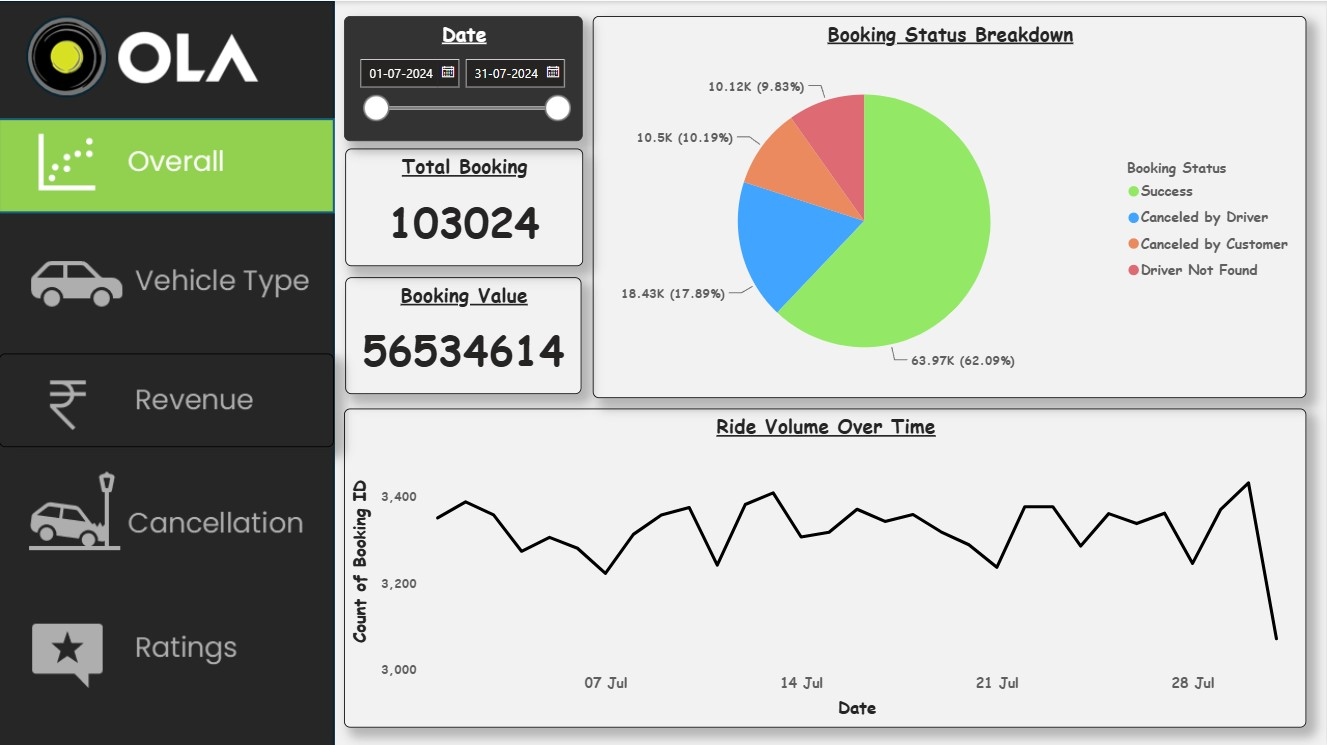

The page's visual inventory and layout, read from the dashboard file:
{"tool":"powerbi","page":{"name":"Overall","canvas":[1280,720],"ordinal":0},"visuals":[{"type":"actionButton","box":[0,222,323.3,90.5],"z":0},{"type":"actionButton","box":[0,339,323.3,90.5],"z":1000},{"type":"actionButton","box":[0,447.6,323.3,90.5],"z":2000},{"type":"actionButton","box":[0,582.7,323.3,90.5],"z":3000},{"type":"actionButton","box":[0,340.2,323.3,90.5],"z":4000},{"type":"lineChart","title":"Ride Volume Over Time","fields":{"Y":["CountNonNull(July.Booking_ID)"],"Category":["July.Date"]},"box":[333,393.3,929,307.6],"z":5000},{"type":"pieChart","title":"Booking Status Breakdown","fields":{"Y":["CountNonNull(July.Booking_ID)"],"Category":["July.Booking_Status"]},"box":[573.1,14.5,688.9,369.2],"z":6000},{"type":"slicer","title":"Date","fields":{"Values":["July.Date"]},"box":[333,14.5,230.4,120.6],"z":7000},{"type":"card","title":"Total Booking","fields":{"Values":["CountNonNull(July.Booking_ID)"]},"box":[334.2,142.4,229.2,113.4],"z":8000},{"type":"card","title":"Booking Value","fields":{"Values":["Sum(July.Booking_Value)"]},"box":[334.7,266.9,228,112.5],"z":9000}]}

Visuals, with their boxes on the page's 1280x720 design canvas (x1, y1, x2, y2). These are canvas units, not pixel positions in the 1327x745 screenshot, which may show the page scaled, cropped or inside an application window:
actionButton: x1=0 y1=222 x2=323 y2=312
actionButton: x1=0 y1=339 x2=323 y2=430
actionButton: x1=0 y1=448 x2=323 y2=538
actionButton: x1=0 y1=583 x2=323 y2=673
actionButton: x1=0 y1=340 x2=323 y2=431
"Ride Volume Over Time" lineChart: x1=333 y1=393 x2=1262 y2=701
"Booking Status Breakdown" pieChart: x1=573 y1=14 x2=1262 y2=384
"Date" slicer: x1=333 y1=14 x2=563 y2=135
"Total Booking" card: x1=334 y1=142 x2=563 y2=256
"Booking Value" card: x1=335 y1=267 x2=563 y2=379
